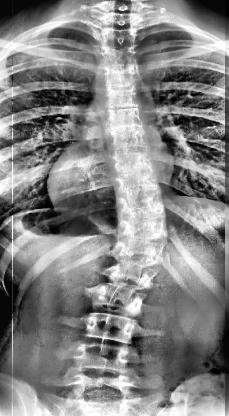Vertebrae: (73, 342, 129, 375), (92, 284, 148, 314), (82, 312, 136, 342), (103, 261, 157, 289), (111, 241, 165, 267), (93, 84, 143, 112), (114, 220, 170, 242), (98, 106, 146, 130), (94, 64, 142, 86), (102, 126, 150, 148), (108, 148, 156, 170), (113, 170, 160, 192), (114, 192, 162, 212), (100, 26, 140, 48), (116, 208, 166, 224), (100, 46, 138, 66)
